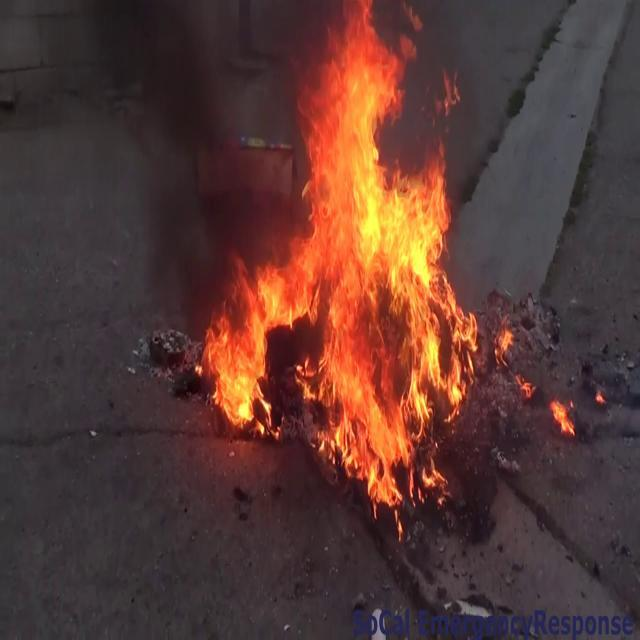Fire: (199, 6, 495, 494), (548, 392, 577, 441)
Smoke: (77, 1, 300, 306)
